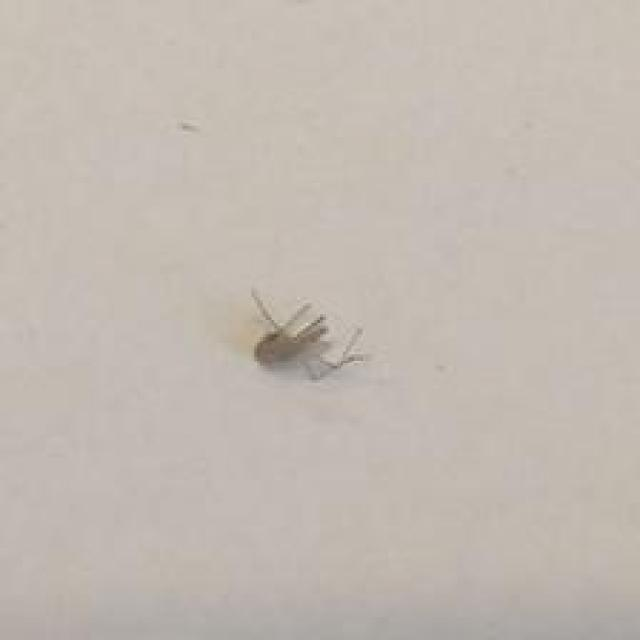Culex: (248, 286, 366, 383)
